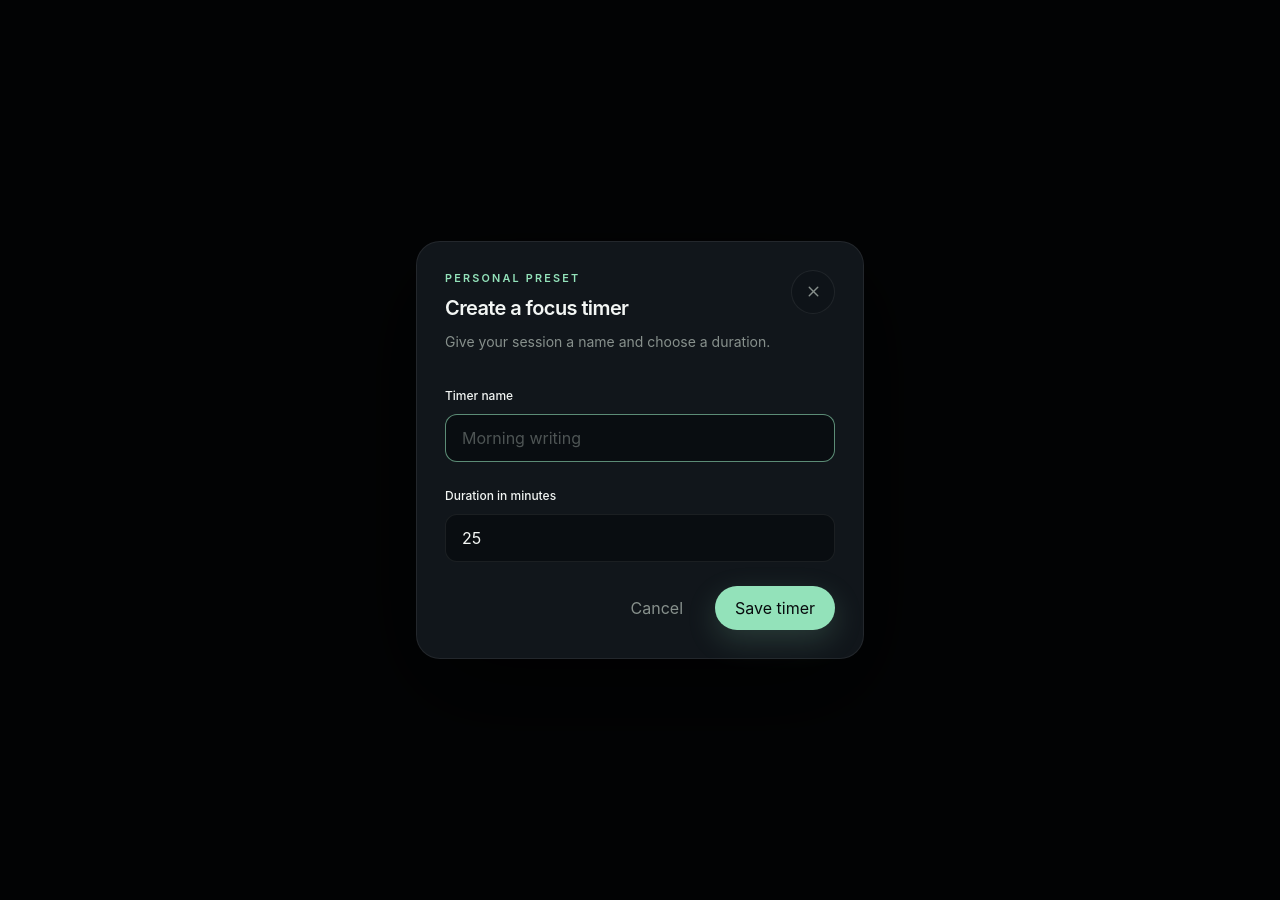
Test case: CustomTimerDialog › shows a validation error for an invalid duration
Type "Writing" into the field labelled "Timer name". click: x=640, y=438
box: [445,414,835,462]
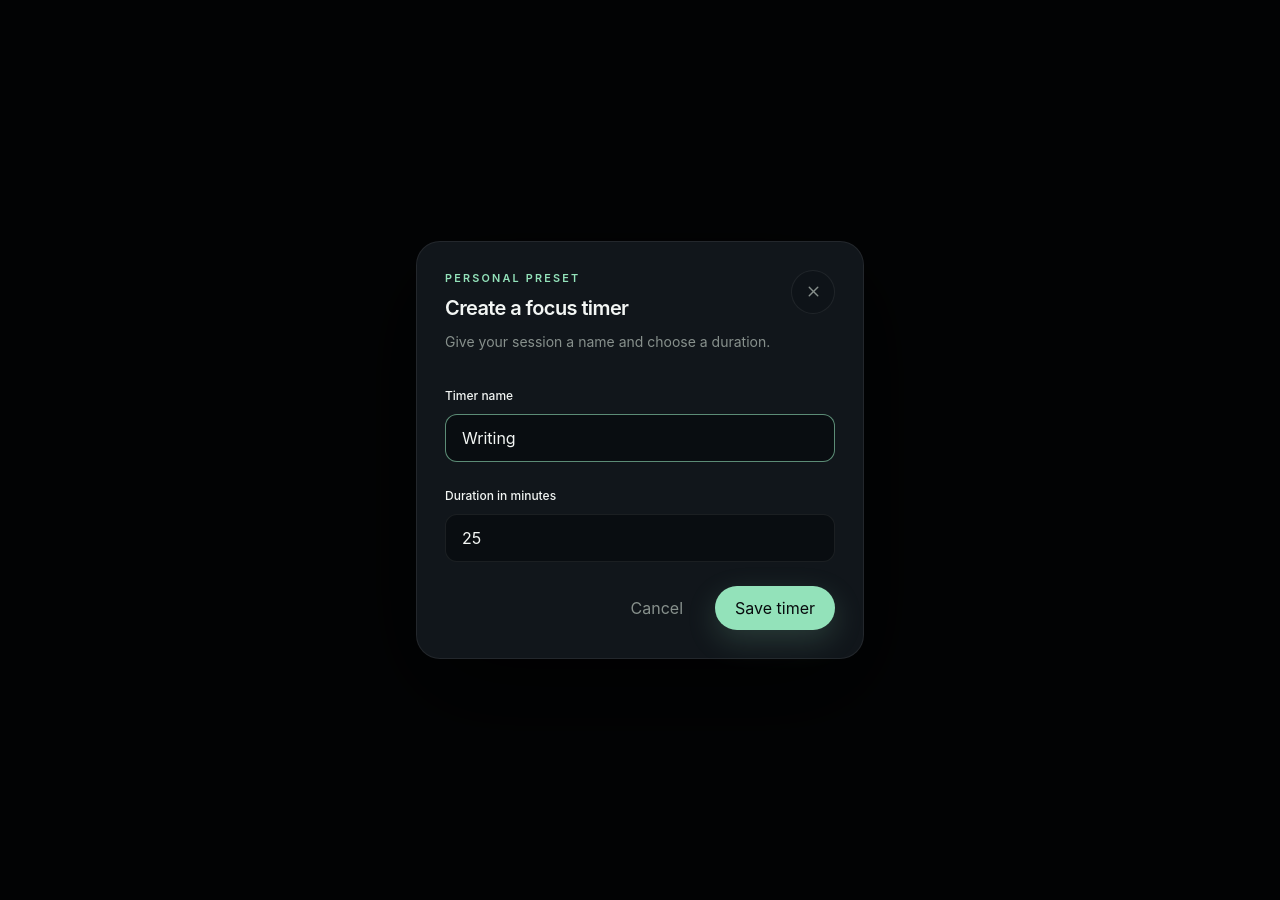
Replace the text in the number field labelled "Duration in minutes" with "0". click: x=640, y=538
box: [445,514,835,562]
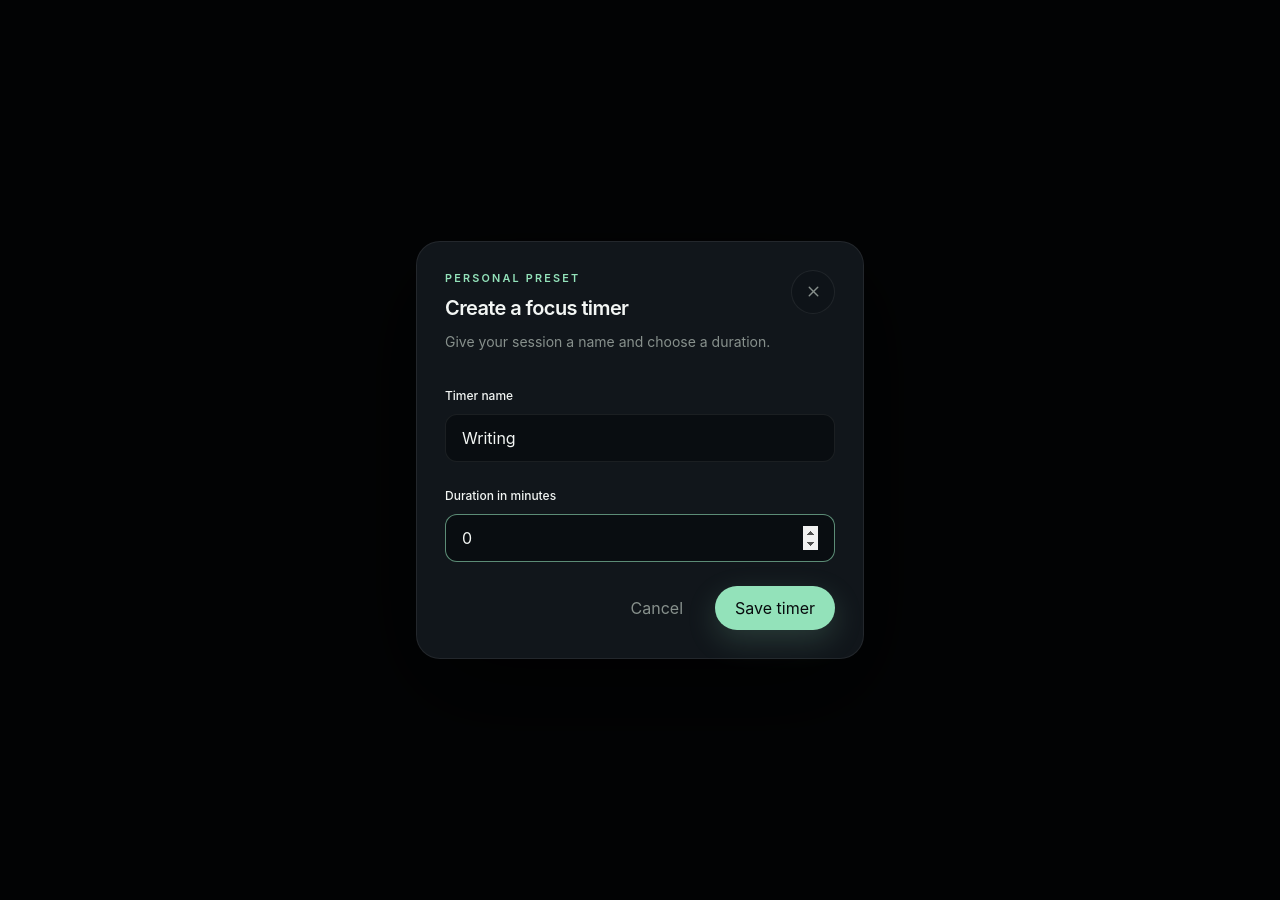
Click the button "Save timer". click: x=775, y=608
box: [715,586,835,630]
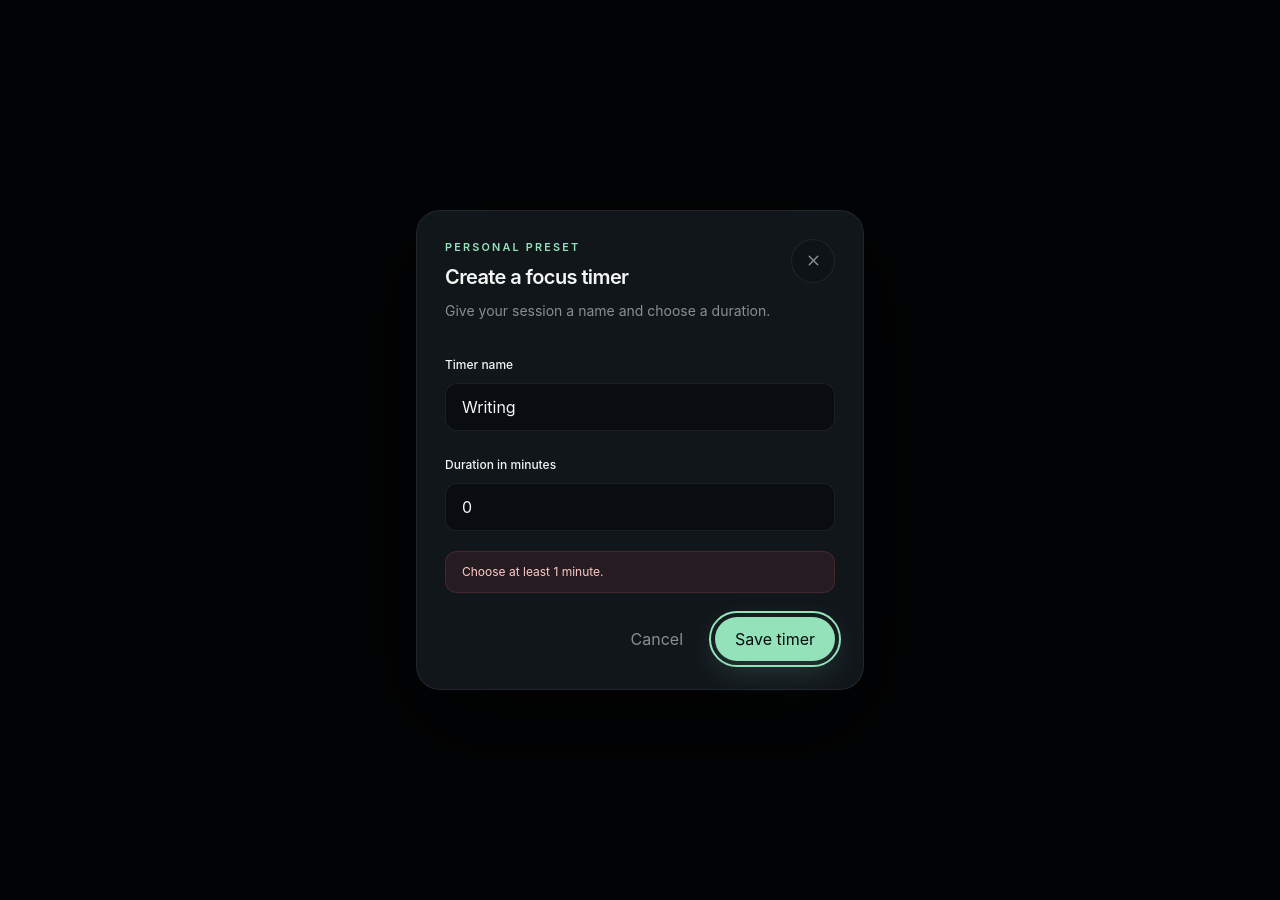
Check: the message reads "Choose at least 1 minute.", box [462,564,604,579]
